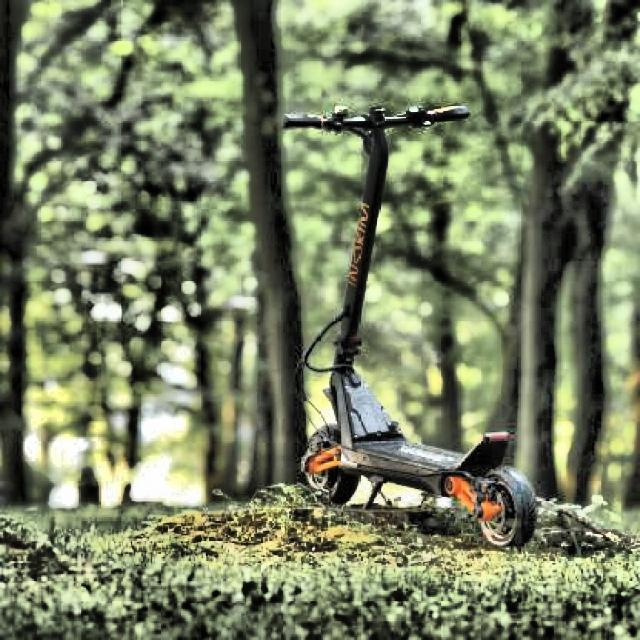bike: (279, 103, 539, 551)
